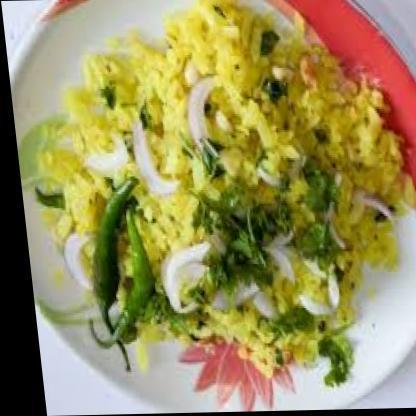poha: (17, 0, 416, 390)
